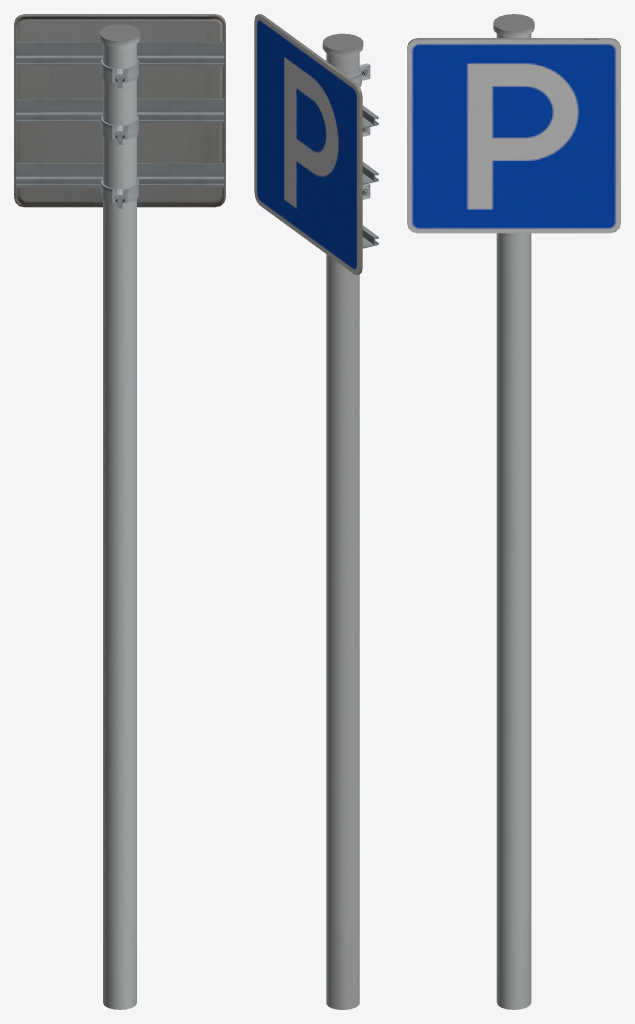
File: Preset_Sign403.fbx
3 views of the same model, side by side, from view 1: azimuth 90°, elevation 25°; view 2: azimuth 210°, elevation 25°; view 3: azimuth 270°, elevation 25° (orthographic). The views are drawn at different scales.
Visible parts, largest first — view 1: Sign_PoleV, Sign_Backface, Sign_BackArm; view 2: Sign_PoleV, Sign403, Sign_BackArm, Sign_Backface; view 3: Sign403, Sign_PoleV.
Boxes of the visible parts, box(x1,y1,x2,y2) form: Sign_PoleV: box(99, 24, 140, 1009); Sign_Backface: box(14, 14, 225, 207); Sign_BackArm: box(15, 42, 224, 208); Sign_PoleV: box(322, 33, 363, 1009); Sign403: box(254, 15, 359, 274); Sign_BackArm: box(349, 63, 378, 248); Sign_Backface: box(257, 14, 362, 274); Sign403: box(407, 39, 620, 233); Sign_PoleV: box(493, 14, 534, 1009).
Size of the model in its own units: 20.57 by 60 by 304.
4 materials, 4 textured.
